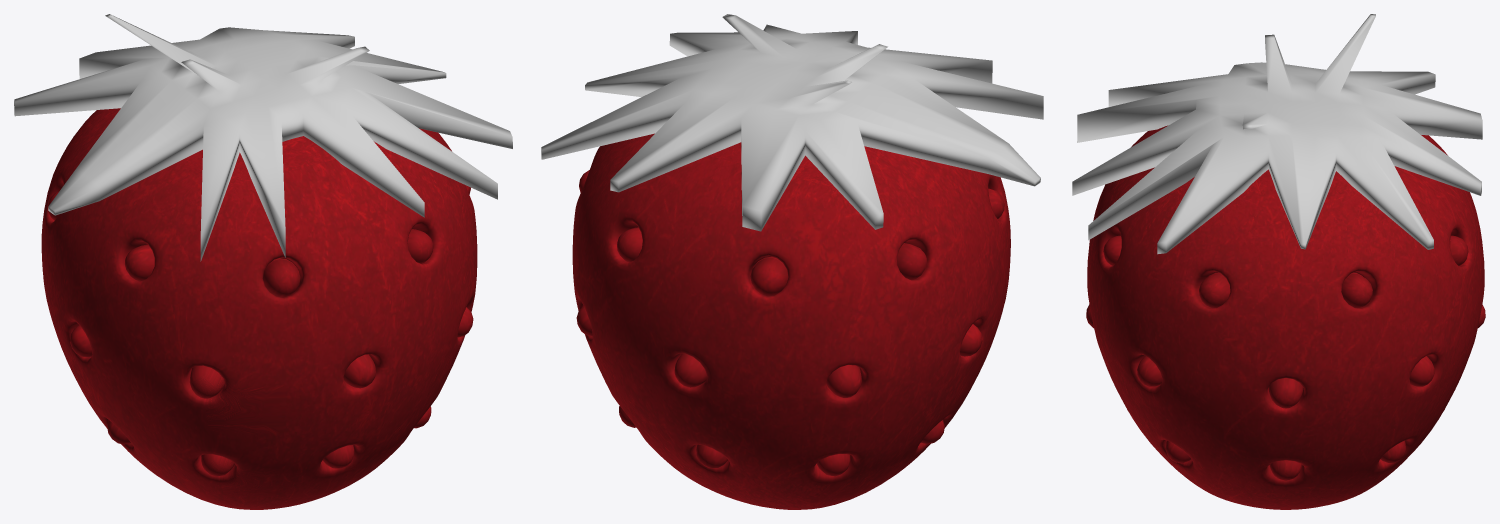
The model's file is FRUTILLA.fbx.
The picture shows the model from 3 angles, left to right: view 1: azimuth 30°, elevation 25°; view 2: azimuth 150°, elevation 25°; view 3: azimuth 270°, elevation 25°; orthographic projection. The views are drawn at different scales.
Visible parts, largest first — view 1: Cube, Cube.001; view 2: Cube, Cube.001; view 3: Cube, Cube.001.
Part boxes in pixels (left/top/right/bottom): Cube: left=41, top=108, right=477, bottom=509; Cube.001: left=14, top=14, right=512, bottom=261; Cube: left=572, top=133, right=1010, bottom=509; Cube.001: left=541, top=14, right=1043, bottom=231; Cube: left=1086, top=125, right=1485, bottom=509; Cube.001: left=1072, top=14, right=1482, bottom=254.
Bounding box in the file's own units: 195 × 207 × 179.
